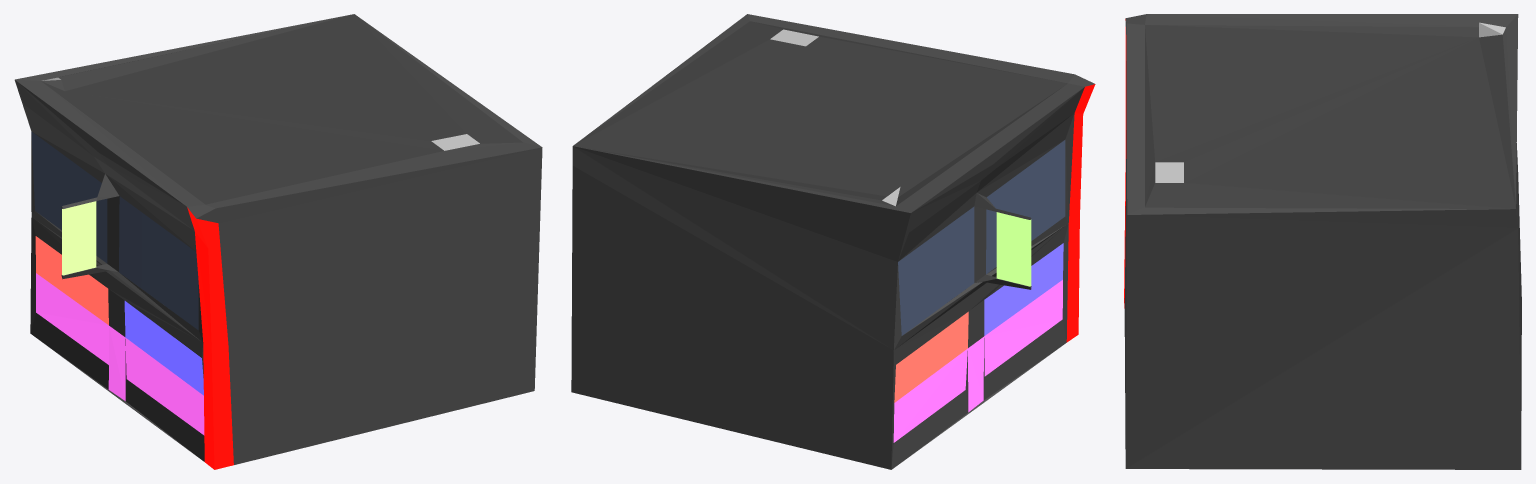
The model's file is TestCP1_LOD2.fbx.
The picture shows the model from 3 angles, left to right: view 1: azimuth 30°, elevation 25°; view 2: azimuth 150°, elevation 25°; view 3: azimuth 270°, elevation 25°; orthographic projection. The views are drawn at different scales.
Visible parts, largest first — view 1: Cube; view 2: Cube; view 3: Cube.
Part boxes in pixels (x1,y1,x2,y2): Cube: (14, 14, 542, 469); Cube: (571, 14, 1095, 469); Cube: (1124, 14, 1521, 469).
Bounding box in the file's own units: 1209 × 806 × 1018.
